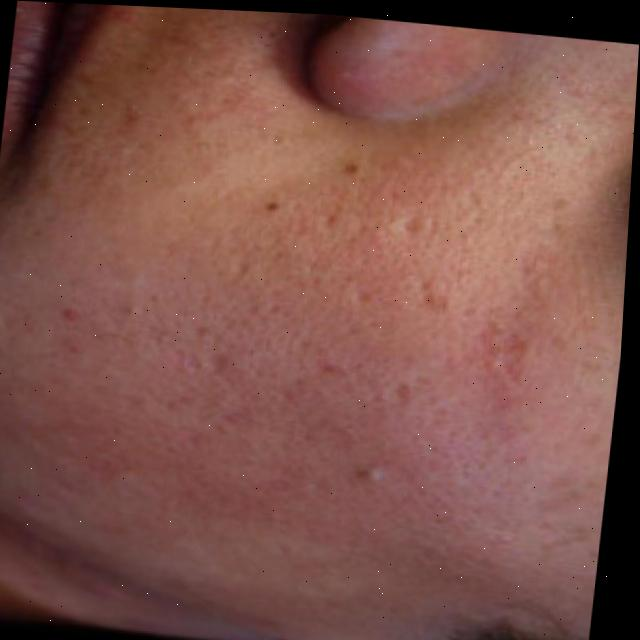Acne: (152, 149, 564, 541)
